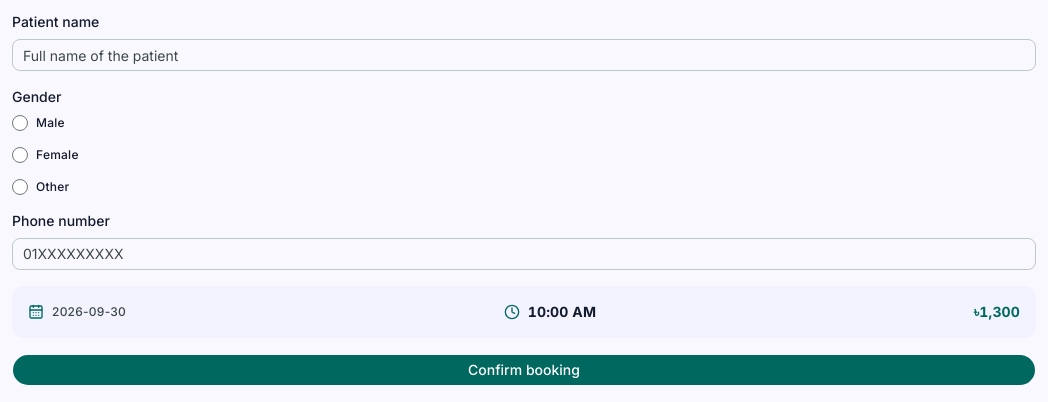
BookingForm › disables the submit button while the booking is pending
Type "Rifat Hossain" into the field labelled "Patient name" at point(524, 55), box x1=12 y1=39 x2=1036 y2=71
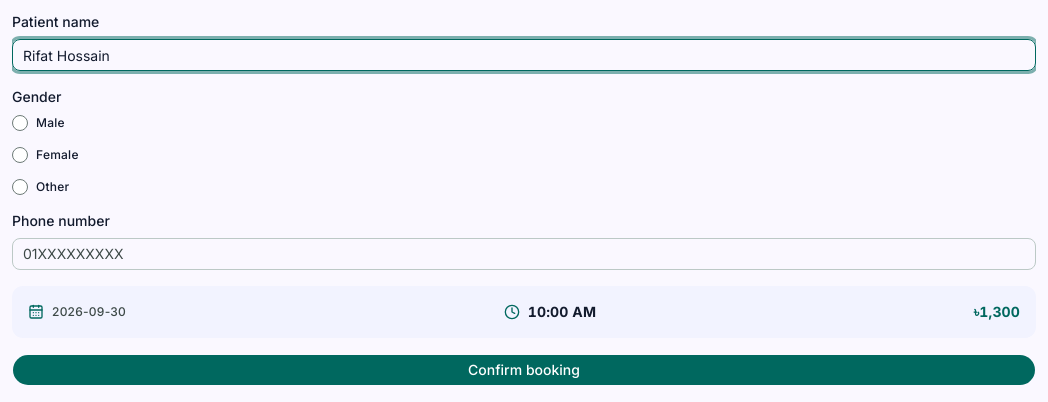
Click the 1st radio button named "Male" at point(20, 122), box x1=12 y1=114 x2=28 y2=130
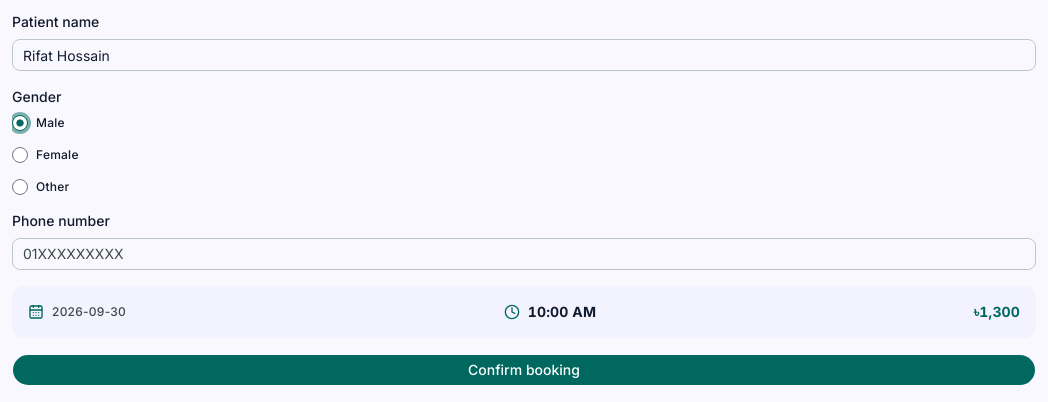
Type "01712345678" into the field labelled "Phone number" at point(524, 254), box x1=12 y1=238 x2=1036 y2=270
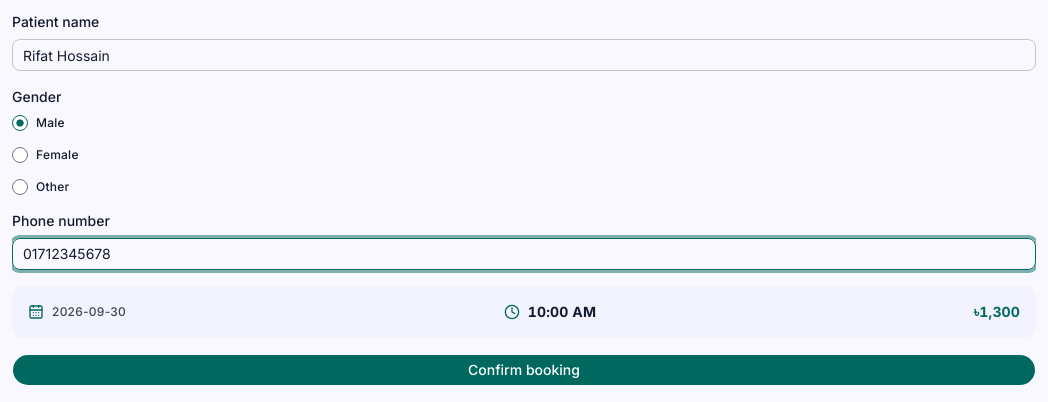
Click the button "Confirm booking" at point(524, 370), box x1=12 y1=354 x2=1036 y2=386
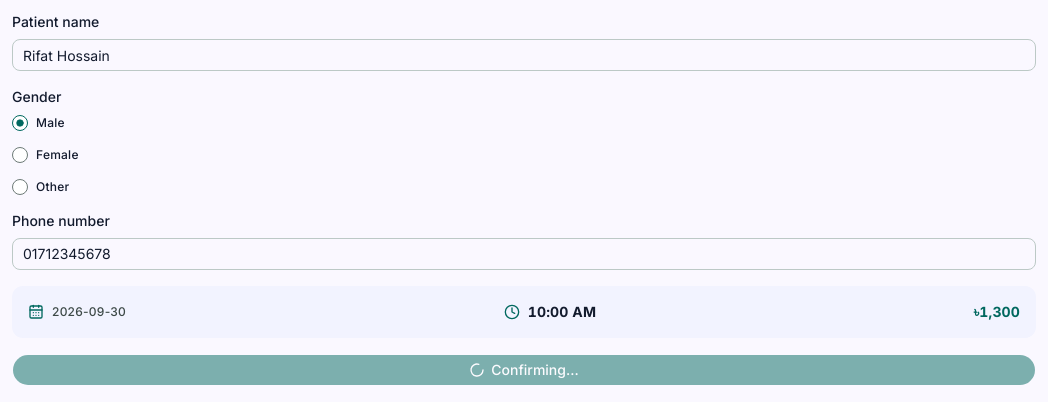
Now the button "Confirming…" is disabled, box x1=12 y1=354 x2=1036 y2=386
